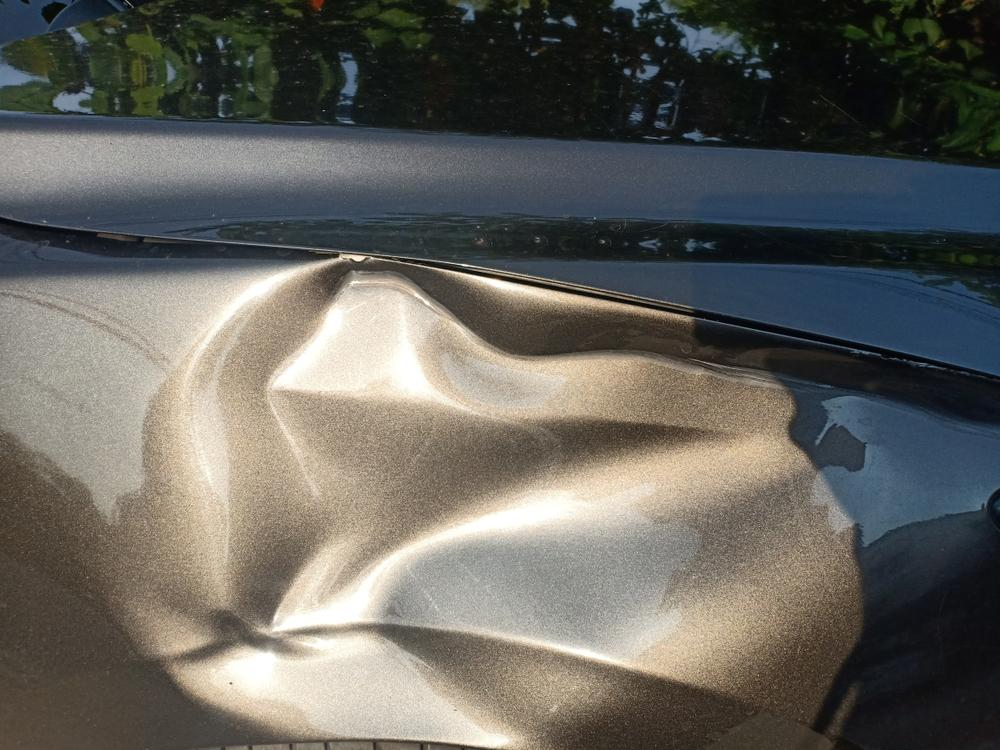dent: (134, 260, 845, 748)
